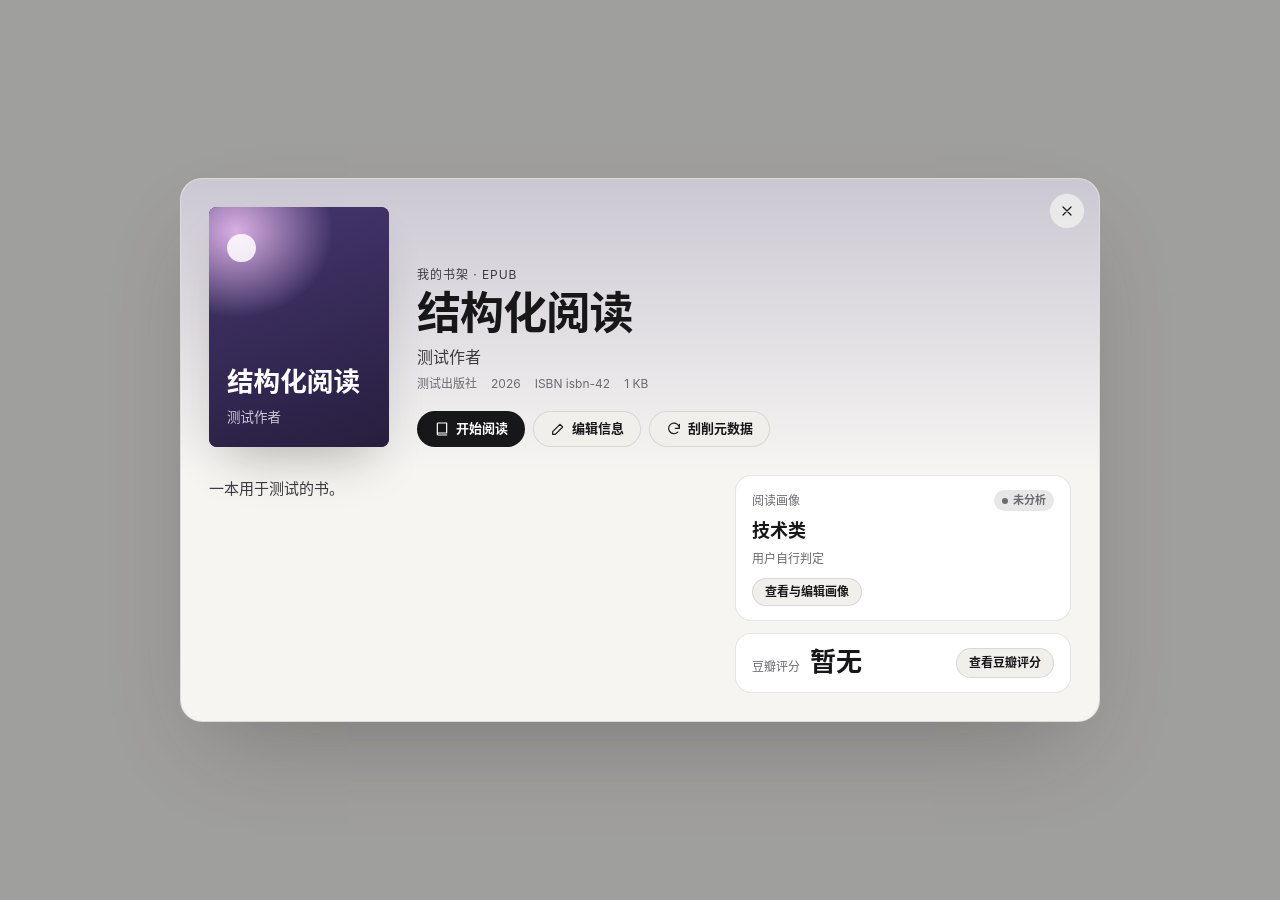
Test: BookDetailModal 书籍画像 › 书架详情默认只展示画像摘要，并从入口打开编辑抽屉
Click the button "查看与编辑画像". click: click(807, 592)
box: [752,578,862,606]
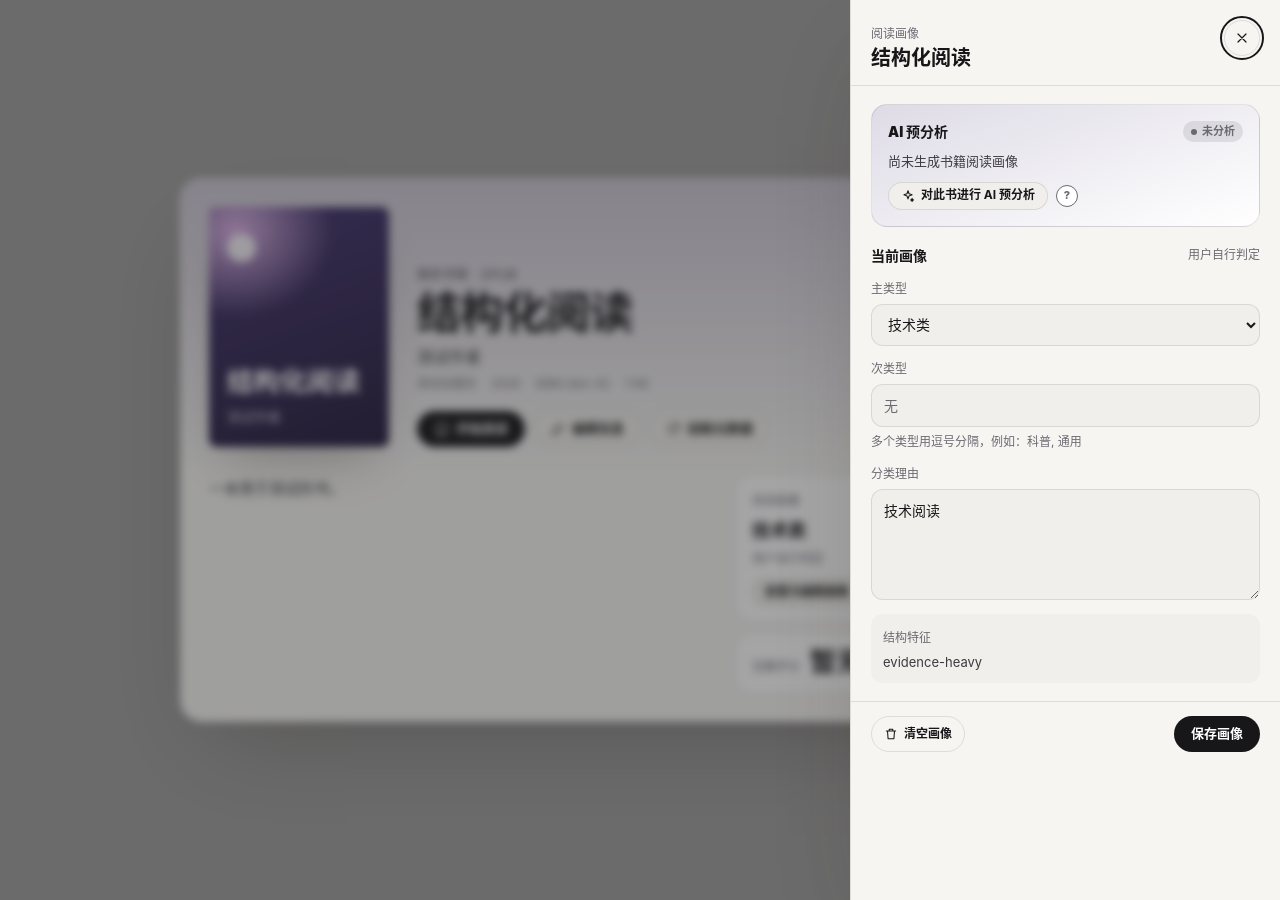
expect the dialog with test id "reading-profile-drawer" shows "evidence-heavy": met, box [883,654,982,670]
